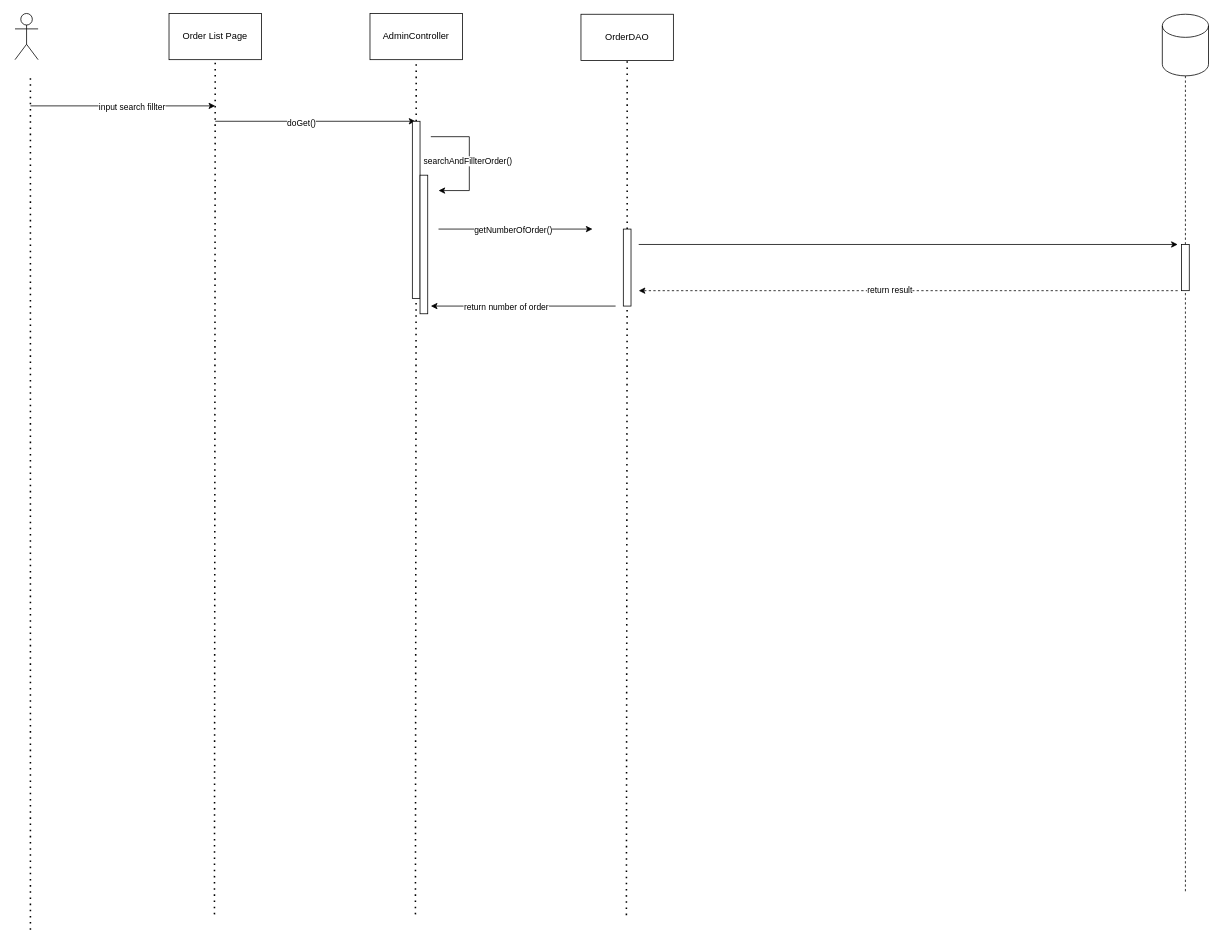
Some shapes in this 1222 by 945 pixel diagram are drawn without their labels. The shapes that lost their labels are listed below. From the top down, each one's centre as x and y in pixels, then its label:
At point (26, 36): "Admin".
At point (1185, 44): "DB".
